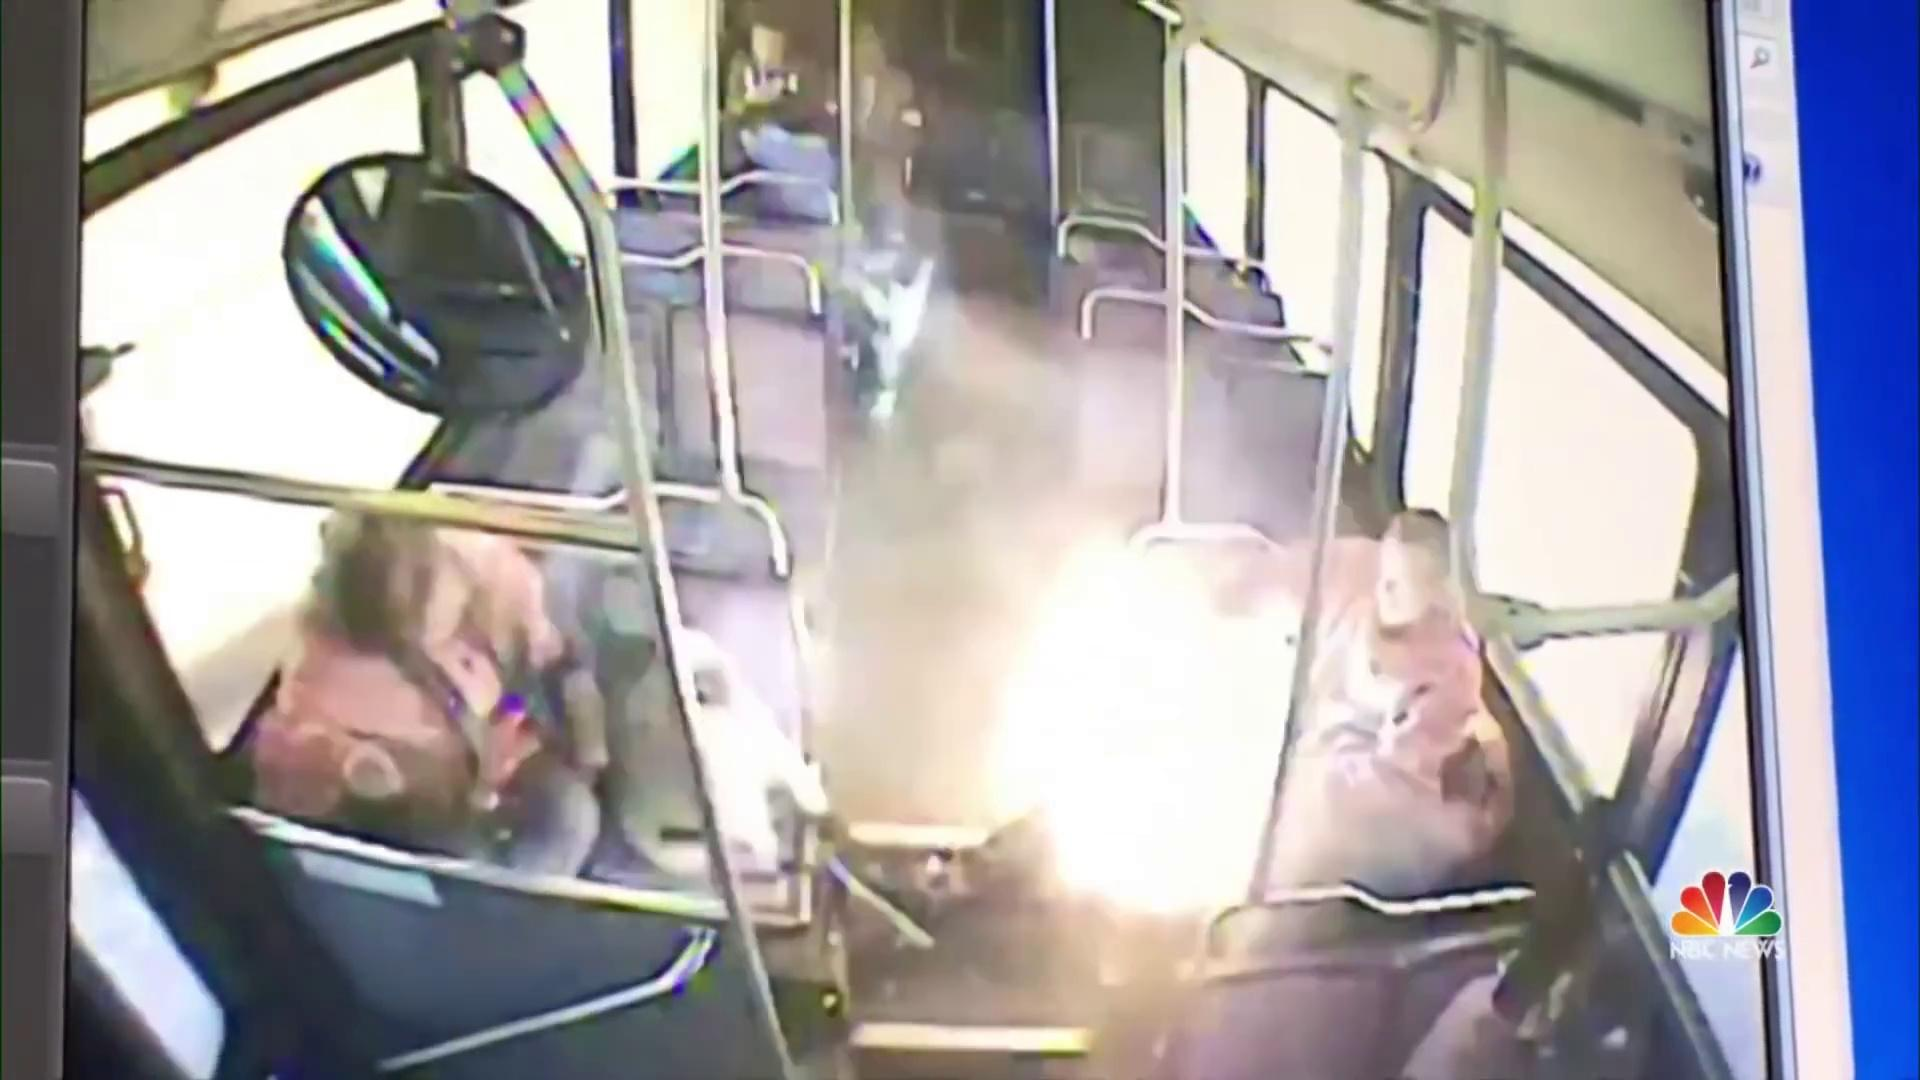fire: (800, 394, 1615, 975)
